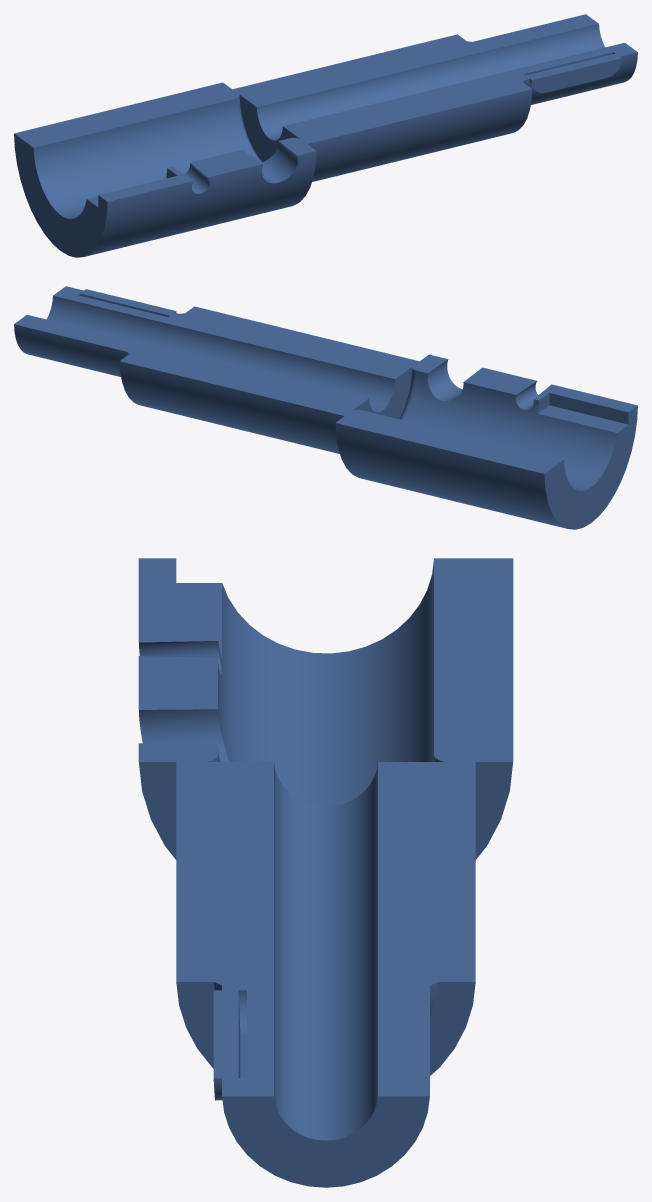
Rendered from big shaftfbx.fbx.
3 renders of one model, top to bottom at view 1: azimuth 30°, elevation 25°; view 2: azimuth 150°, elevation 25°; view 3: azimuth 270°, elevation 25°, orthographic. The views are drawn at different scales.
Visible parts, largest first — view 1: Body 18 (1); view 2: Body 18 (1); view 3: Body 18 (1).
Part boxes in pixels (box(x1,y1,x2,y2)): Body 18 (1): box(14, 14, 637, 257); Body 18 (1): box(14, 286, 637, 529); Body 18 (1): box(138, 558, 513, 1187).
Size of the model in its own units: 15.3 by 2.21 by 4.5.
